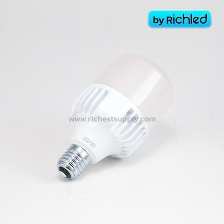light_bulb: (52, 49, 177, 181)
